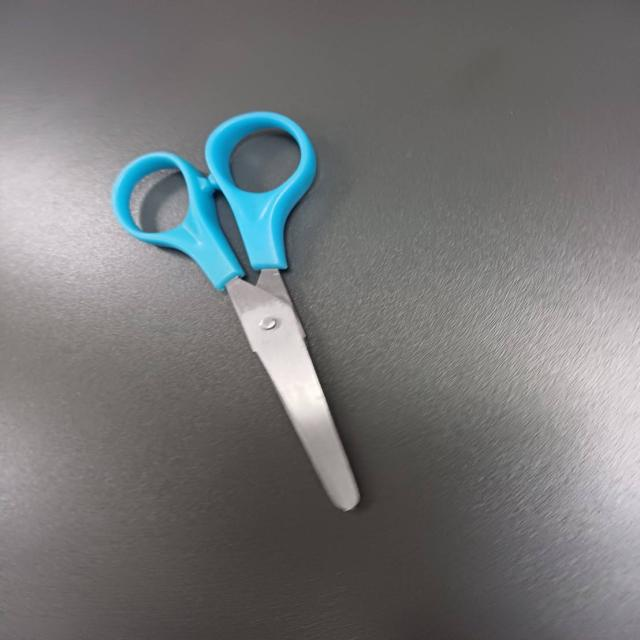scissors: (94, 96, 434, 542)
